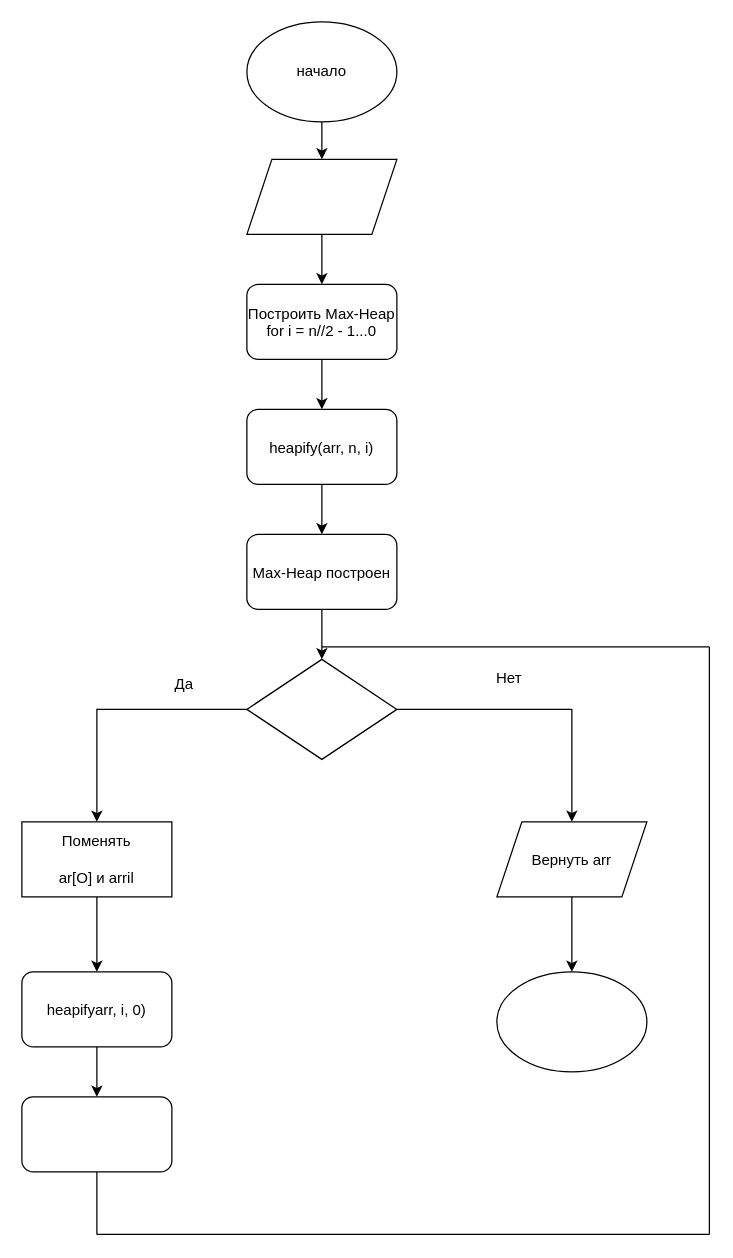
Some shapes in this 733 by 1258 pixel diagram are drawn without their labels. The shapes that lost their labels are listed below. From the top down, each one's centre as x and y in pixels, then its label:
point (321, 196): n = len(arr)
point (321, 708): i >0?
point (571, 1021): конец
point (96, 1134): i=i - 1
